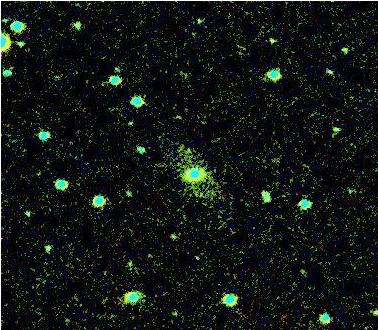star: (289, 255, 319, 285)
